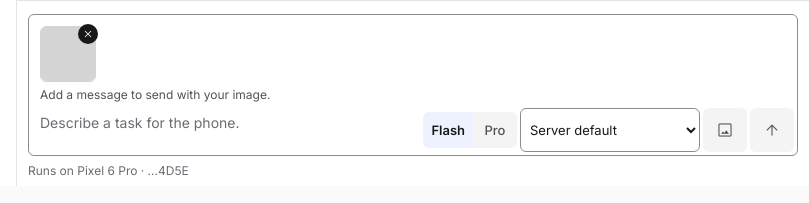
WorkspaceComponent pinned composer (CHE-1508) › attaches an image as a preview and removes it again
Click the button with class "btn-remove-image".
click(88, 34)  # box [66,12,110,56]
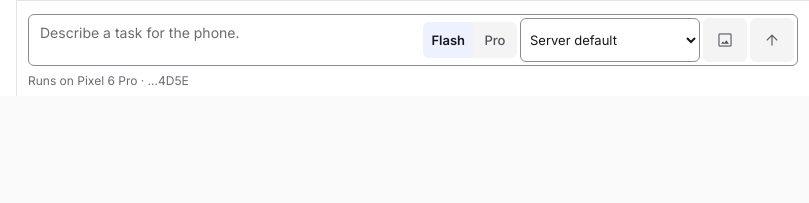
Now no list items with class "attached-image" are shown
